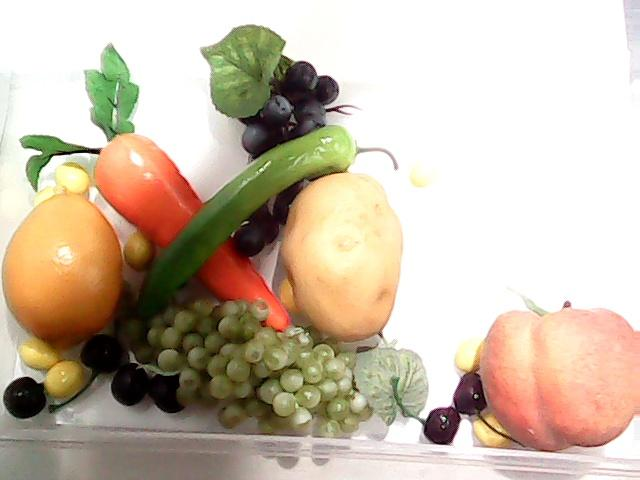carrot: (18, 41, 290, 334)
grape: (198, 26, 338, 255), (143, 314, 377, 436)
lemon: (6, 185, 126, 357)
peach: (480, 304, 640, 452)
pepper: (127, 119, 365, 325)
potato: (278, 172, 402, 344)
